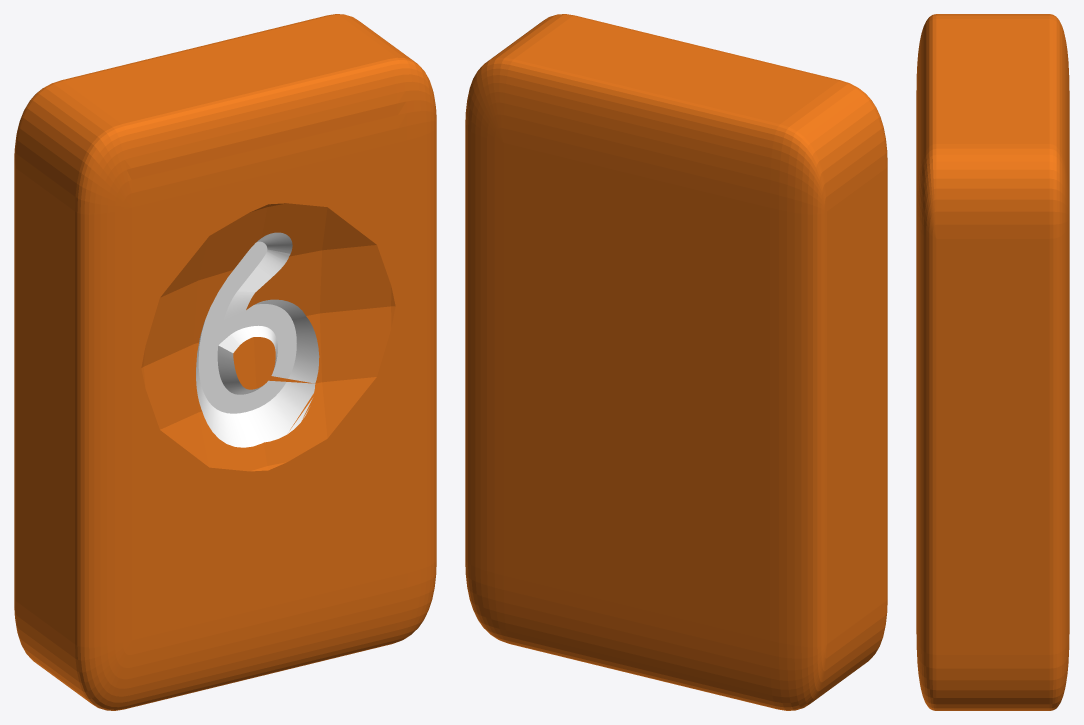
The model's file is Rummikub Card 6.FBX.
3 renders of one model, left to right at view 1: azimuth 30°, elevation 25°; view 2: azimuth 150°, elevation 25°; view 3: azimuth 270°, elevation 25°, orthographic. The views are drawn at different scales.
Visible parts, largest first — view 1: CardModel; view 2: CardModel; view 3: CardModel.
Part boxes in pixels (bbox=[...]): CardModel: bbox=[14, 14, 436, 710]; CardModel: bbox=[465, 14, 887, 710]; CardModel: bbox=[916, 14, 1069, 710].
Bounding box in the file's own units: 44.87 × 69.66 × 17.19.
